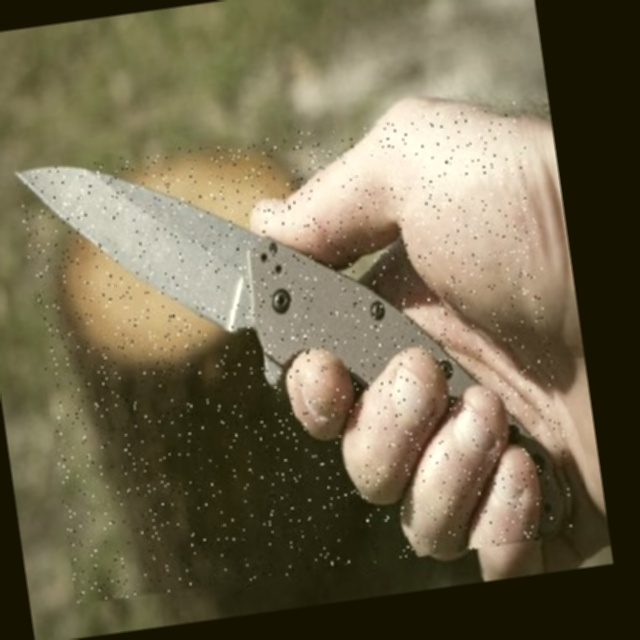Sharp-Object: (16, 101, 579, 605)
